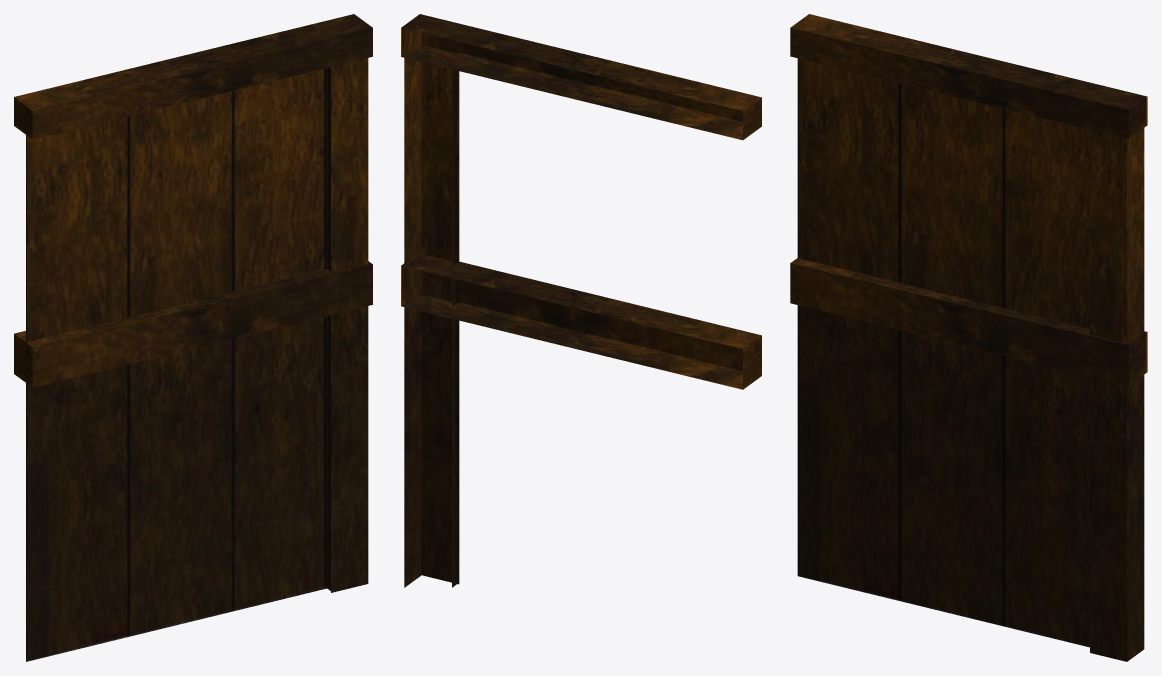
The model's file is wall.fbx.
3 renders of one model, left to right at view 1: azimuth 30°, elevation 25°; view 2: azimuth 150°, elevation 25°; view 3: azimuth 330°, elevation 25°, orthographic.
Parts seen in each view (by area): view 1: wall; view 2: wall; view 3: wall.
Part boxes in pixels (bbox=[...]): wall: bbox=[14, 14, 372, 661]; wall: bbox=[401, 14, 761, 587]; wall: bbox=[790, 14, 1147, 661].
Bounding box in the file's own units: 154 × 241 × 14.71.
1 material, 1 textured.
